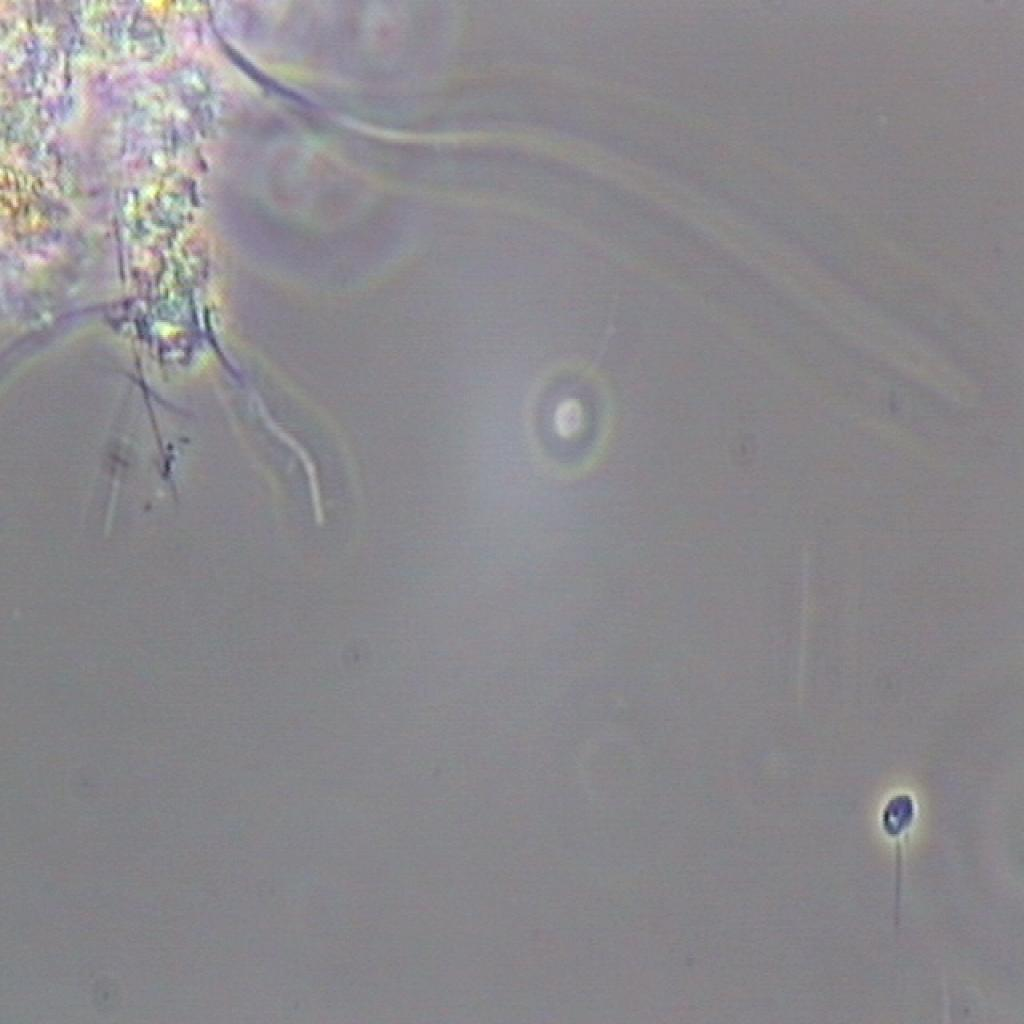Flagellates: (860, 764, 929, 966)
